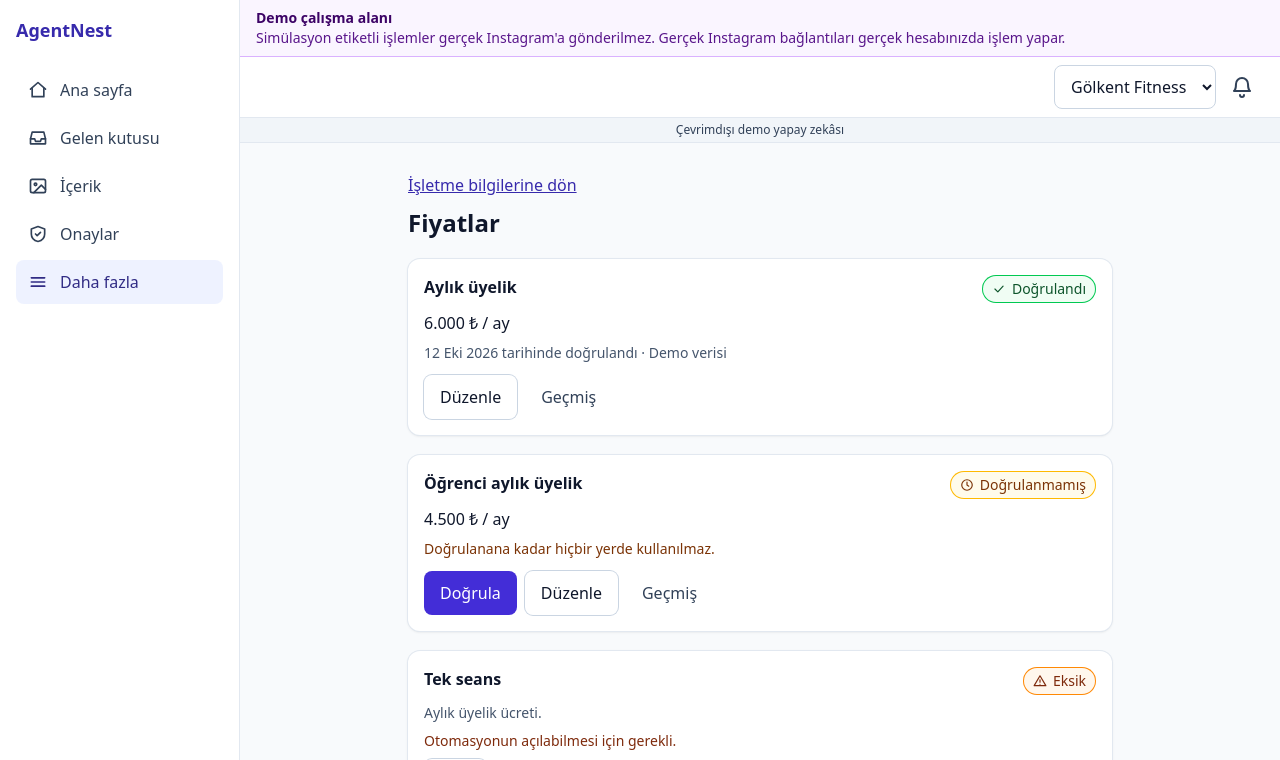
fact editor › rejects text that is not an amount without enabling save
Click the button "Düzenle" below "12 Eki 2026 tarihinde doğrulandı": (471, 397) 424,375 -> 517,419
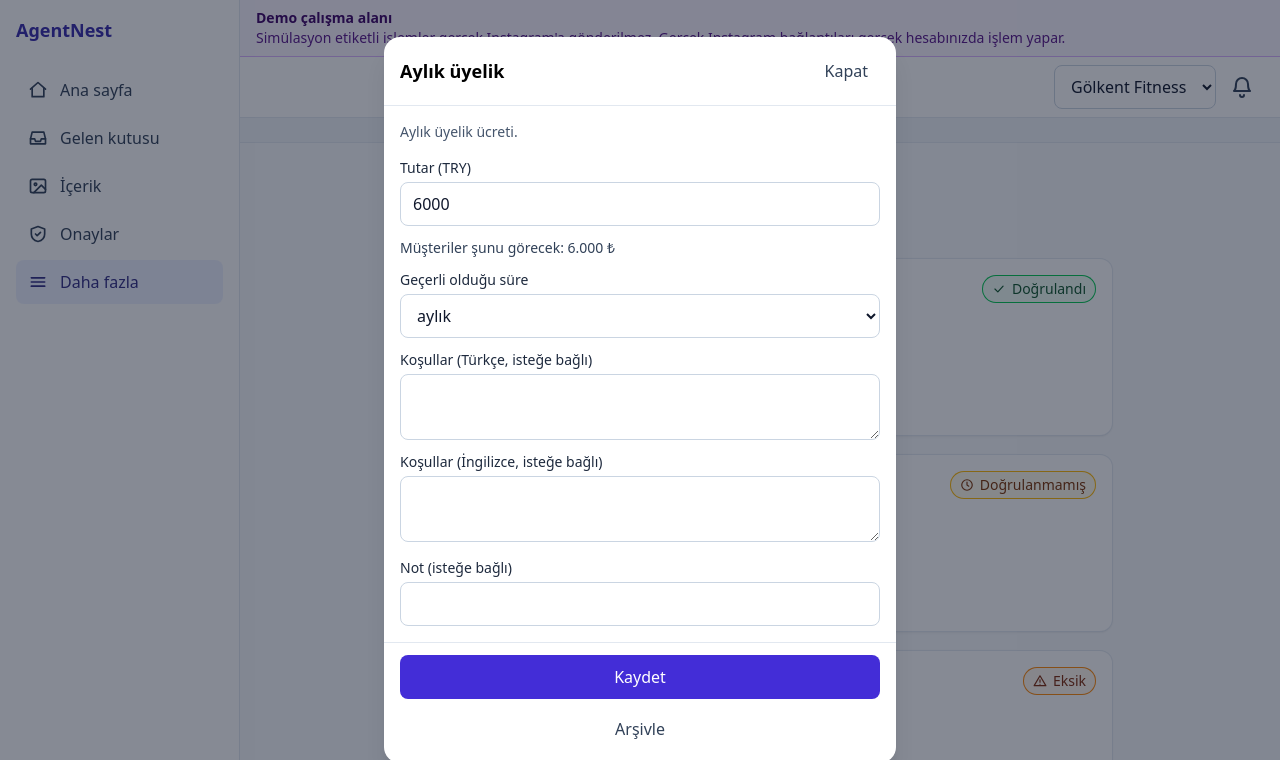
Clear the field labelled "Tutar (TRY)": (640, 204) 400,182 -> 880,226
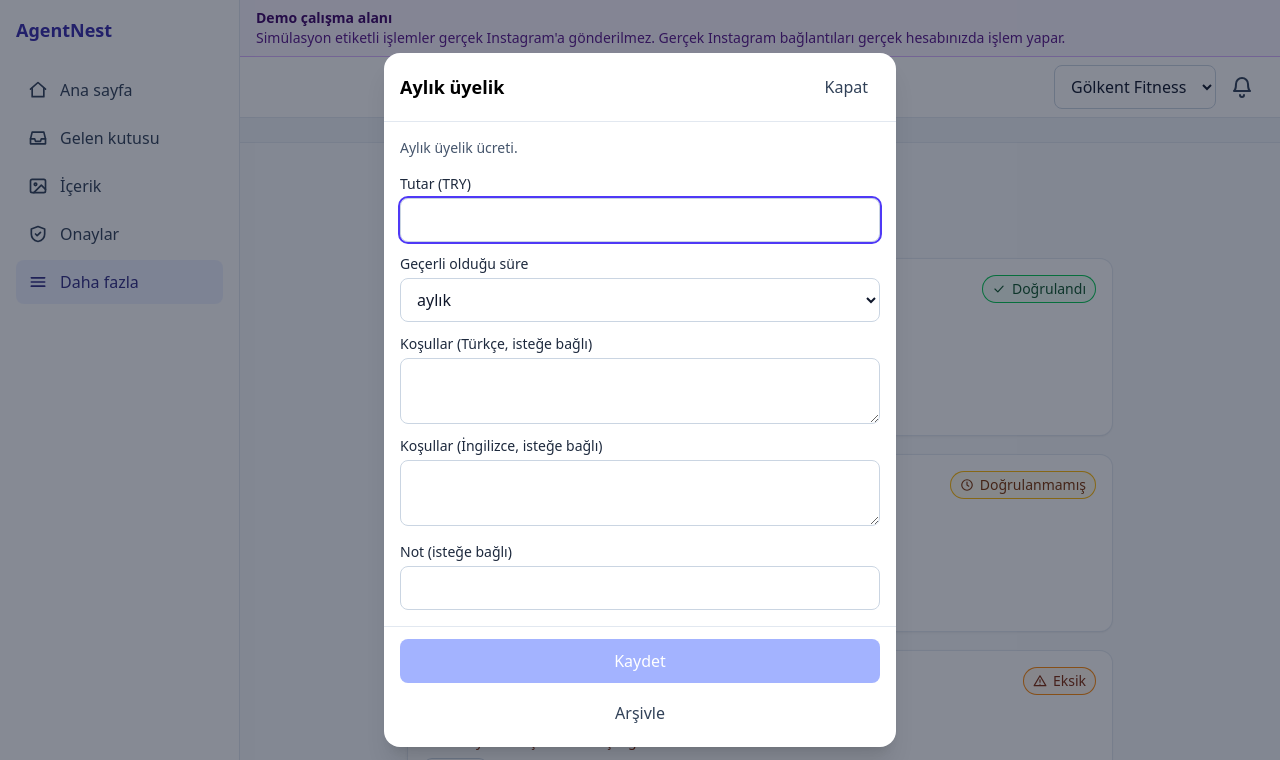
In the field labelled "Tutar (TRY)": (640, 220) 400,198 -> 880,242, type "çok pahalı"
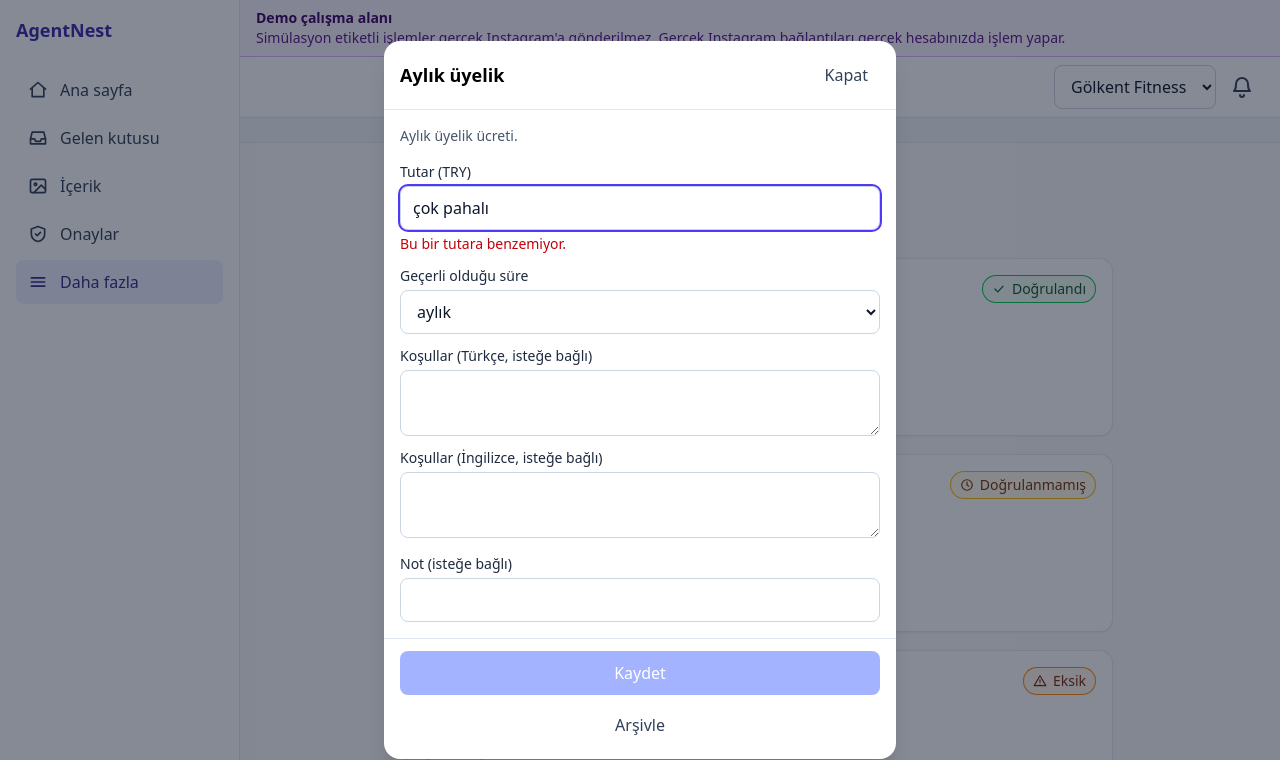
Result: the button "Kaydet" is disabled at 400,651 -> 880,695
Result: the text "Bu bir tutara benzemiyor." is shown at 400,234 -> 566,253
